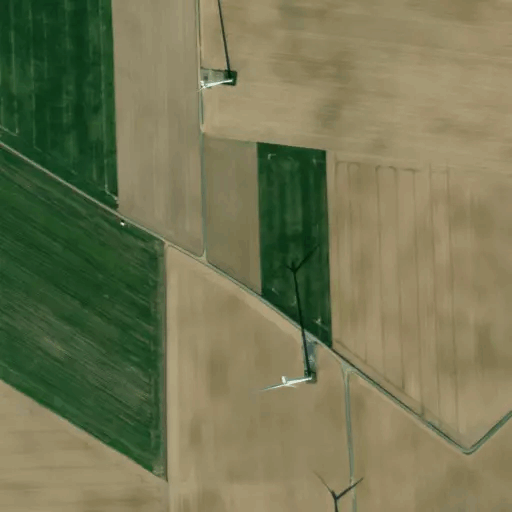wt: (257, 242, 337, 411)
